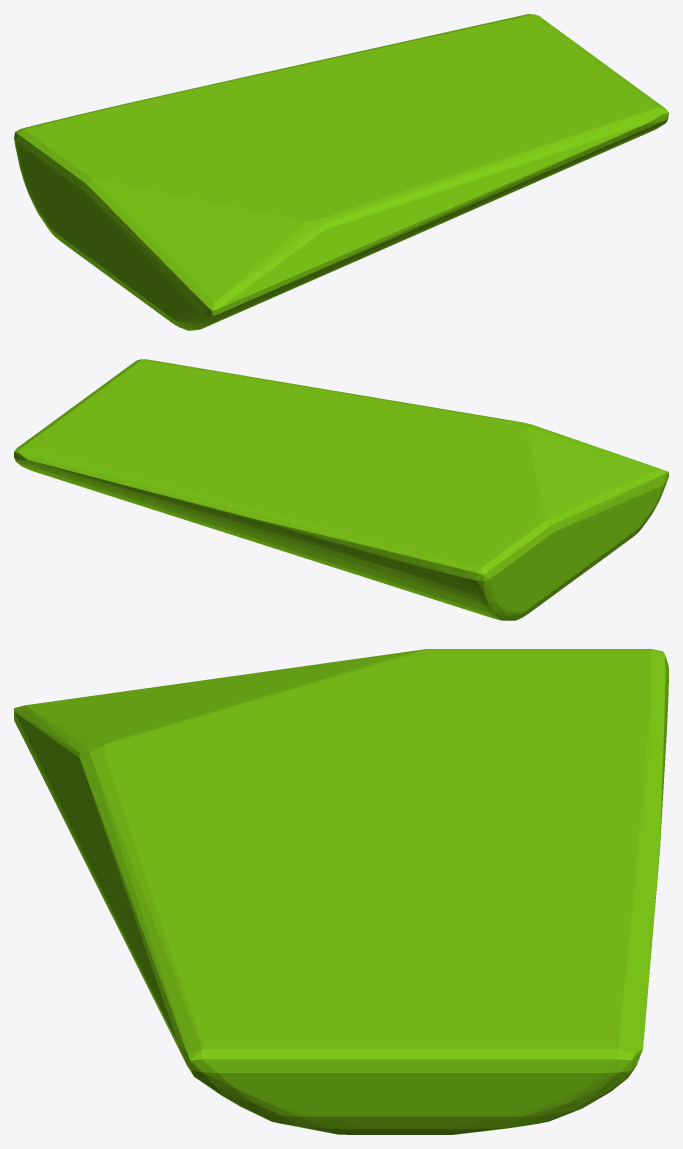
The model's file is left_elbow_link_part_4.obj.
The picture shows the model from 3 angles, top to bottom: view 1: azimuth 30°, elevation 25°; view 2: azimuth 150°, elevation 25°; view 3: azimuth 270°, elevation 25°; orthographic projection. The views are drawn at different scales.
Size of the model in its own units: 0.0905 by 0.0138 by 0.0605.
